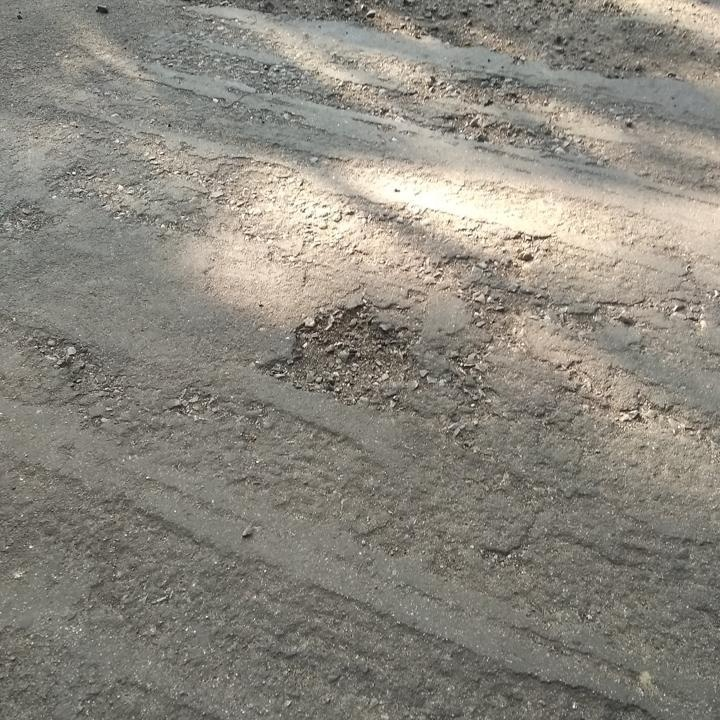pothole: (258, 300, 427, 409), (442, 110, 538, 150), (447, 71, 540, 106)
